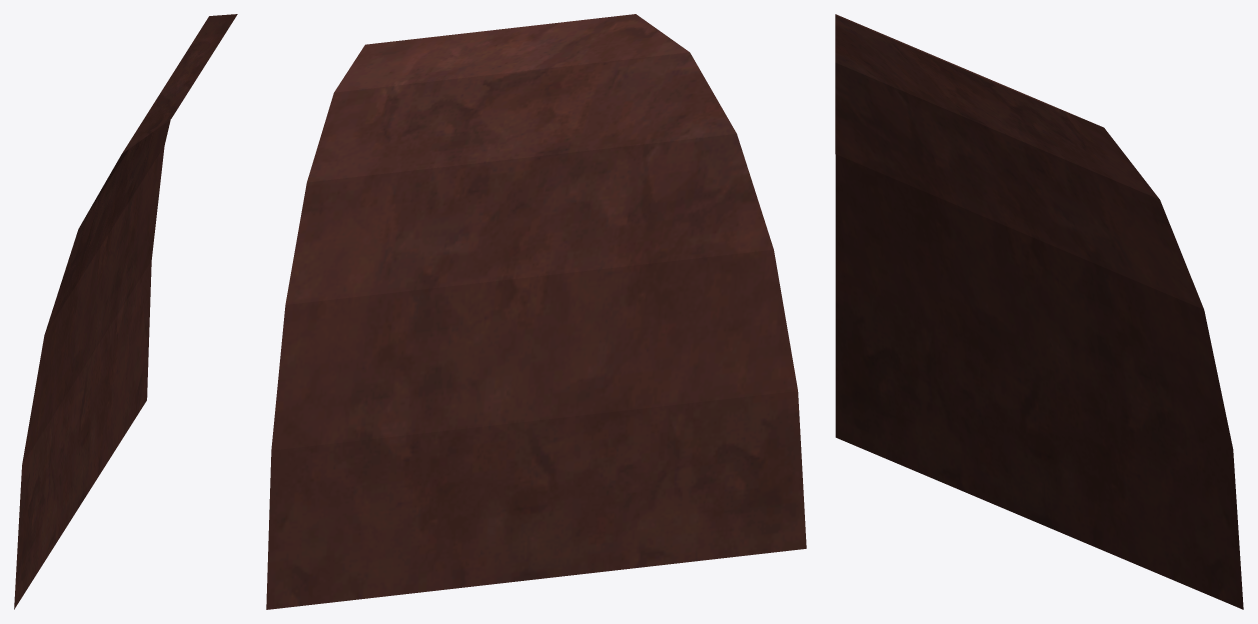
File: lava_base_diagonal_01.fbx
3 renders of one model, left to right at view 1: azimuth 30°, elevation 25°; view 2: azimuth 150°, elevation 25°; view 3: azimuth 270°, elevation 25°, orthographic. The views are drawn at different scales.
Parts seen in each view (by area): view 1: obj0.138; view 2: obj0.138; view 3: obj0.138.
Part boxes in pixels (bbox=[...]): obj0.138: bbox=[14, 14, 237, 609]; obj0.138: bbox=[266, 14, 806, 609]; obj0.138: bbox=[835, 14, 1243, 609].
Bounding box in the file's own units: 4 × 5.5 × 4.
